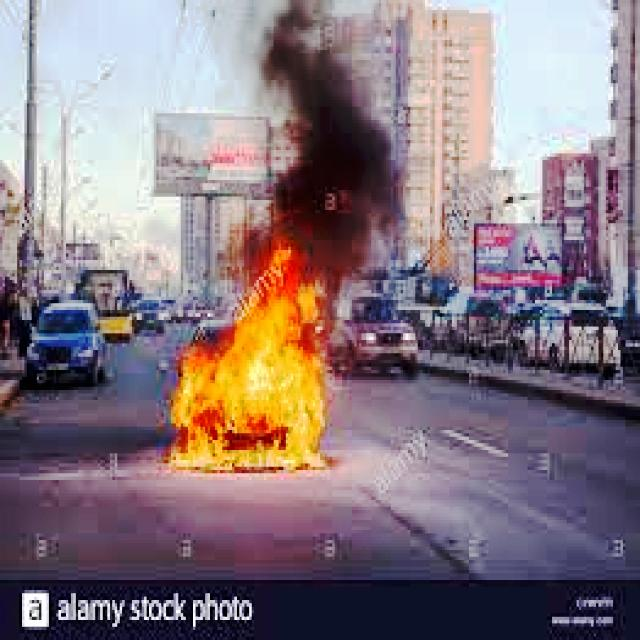api: (167, 238, 336, 491)
